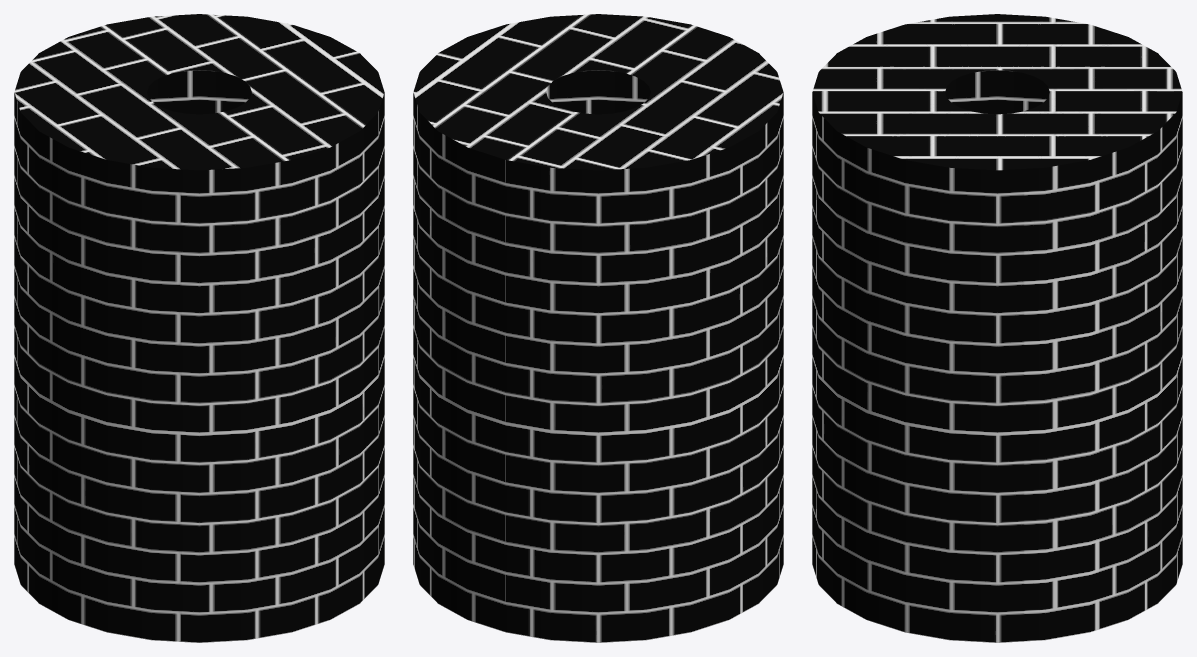
File: VRShoot_Hall.fbx
3 views of the same model, side by side, from view 1: azimuth 30°, elevation 25°; view 2: azimuth 150°, elevation 25°; view 3: azimuth 270°, elevation 25° (orthographic).
Parts seen in each view (by area): view 1: Hall; view 2: Hall; view 3: Hall.
Part boxes in pixels (x1,y1,x2,y2): Hall: [14, 14, 384, 642]; Hall: [413, 14, 783, 642]; Hall: [812, 14, 1182, 642].
Bounding box in the file's own units: 164 × 231 × 164.
